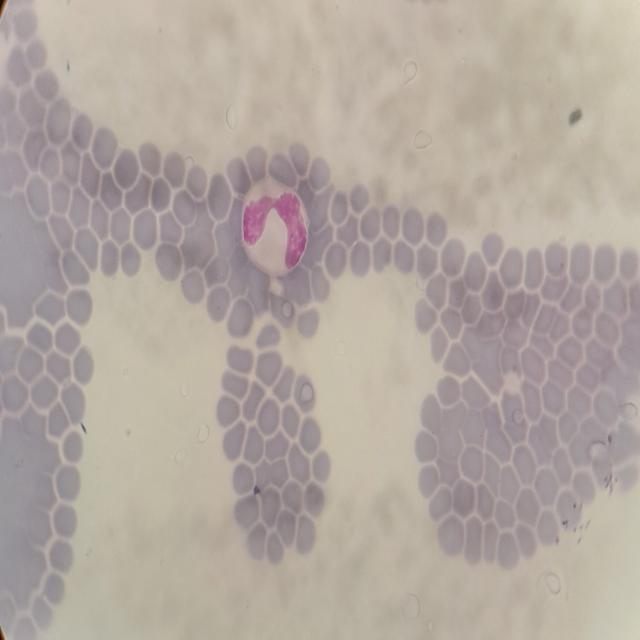Neutrofilo: (241, 177, 312, 274)
